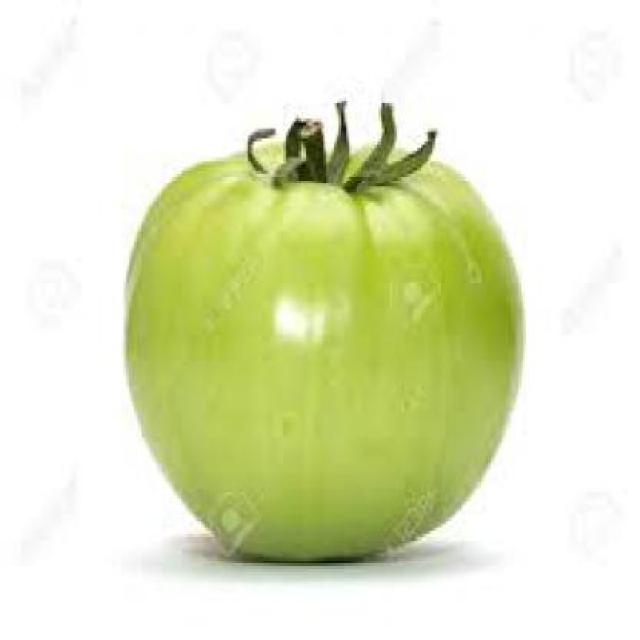yesil: (110, 98, 567, 569)
